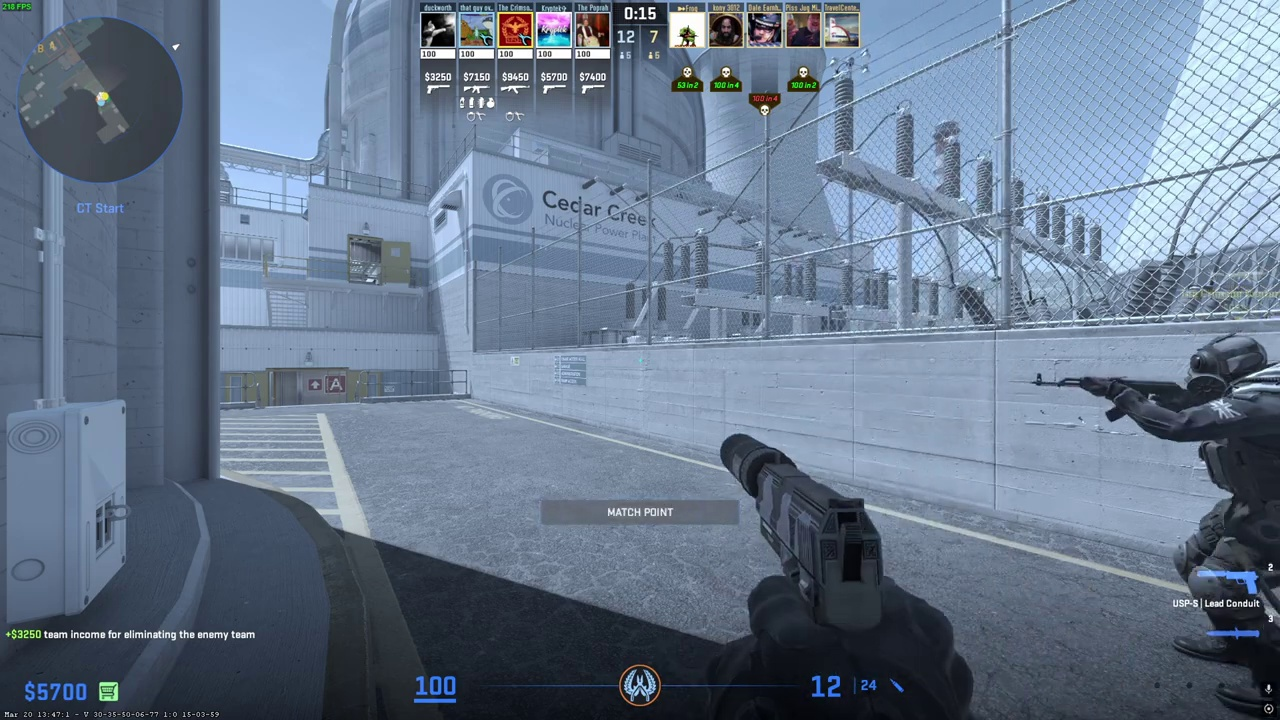CT: (1161, 332, 1280, 717)
